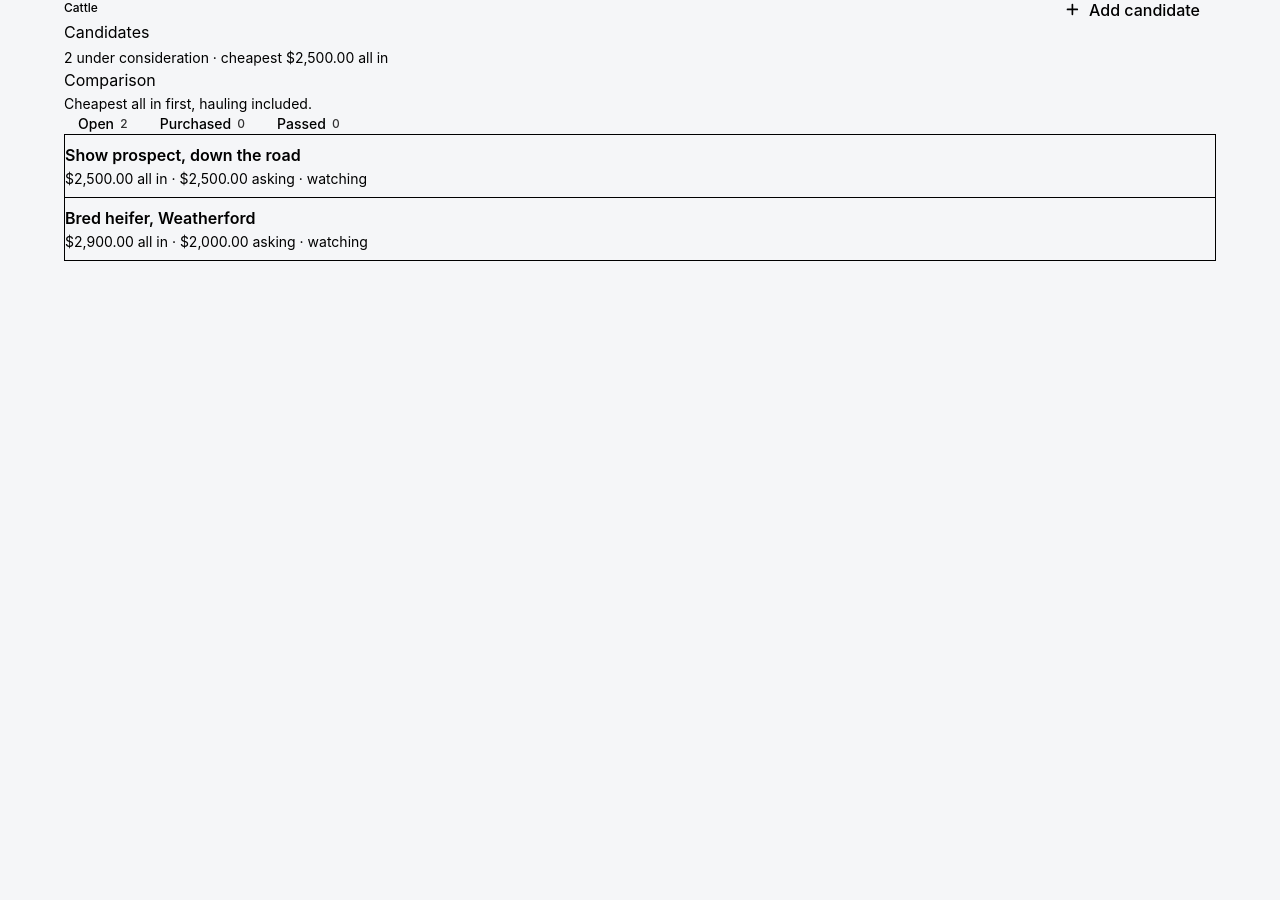
it: The comparison › adds one in a side panel, with the hauling itemised
This screenshot has width=1280, height=900.
Click the button "Add candidate" at [1132, 10], box [1048,1,1216,18]
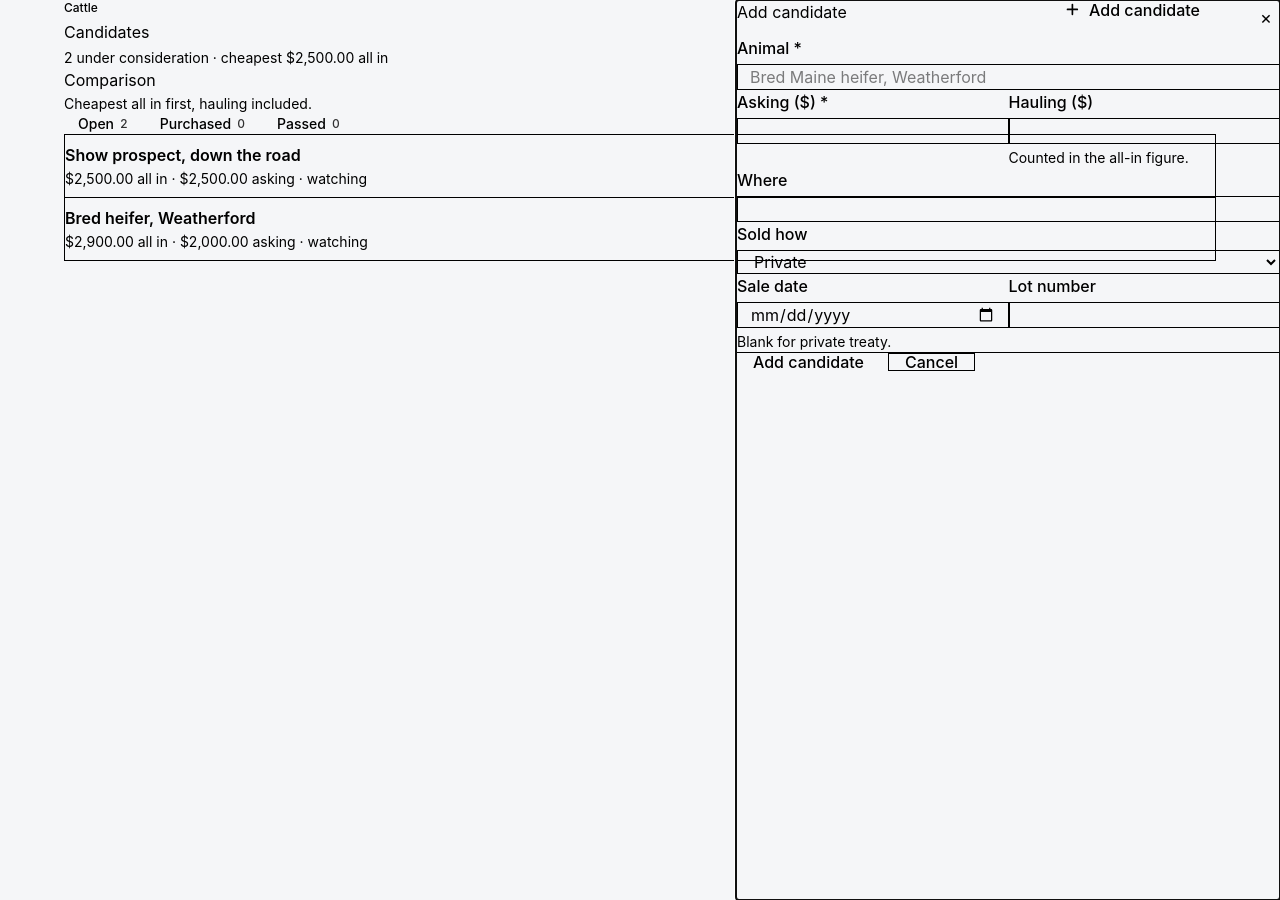
Type "Red heifer" into the field labelled "Animal *" at [1008, 77], box [737,64,1279,90]
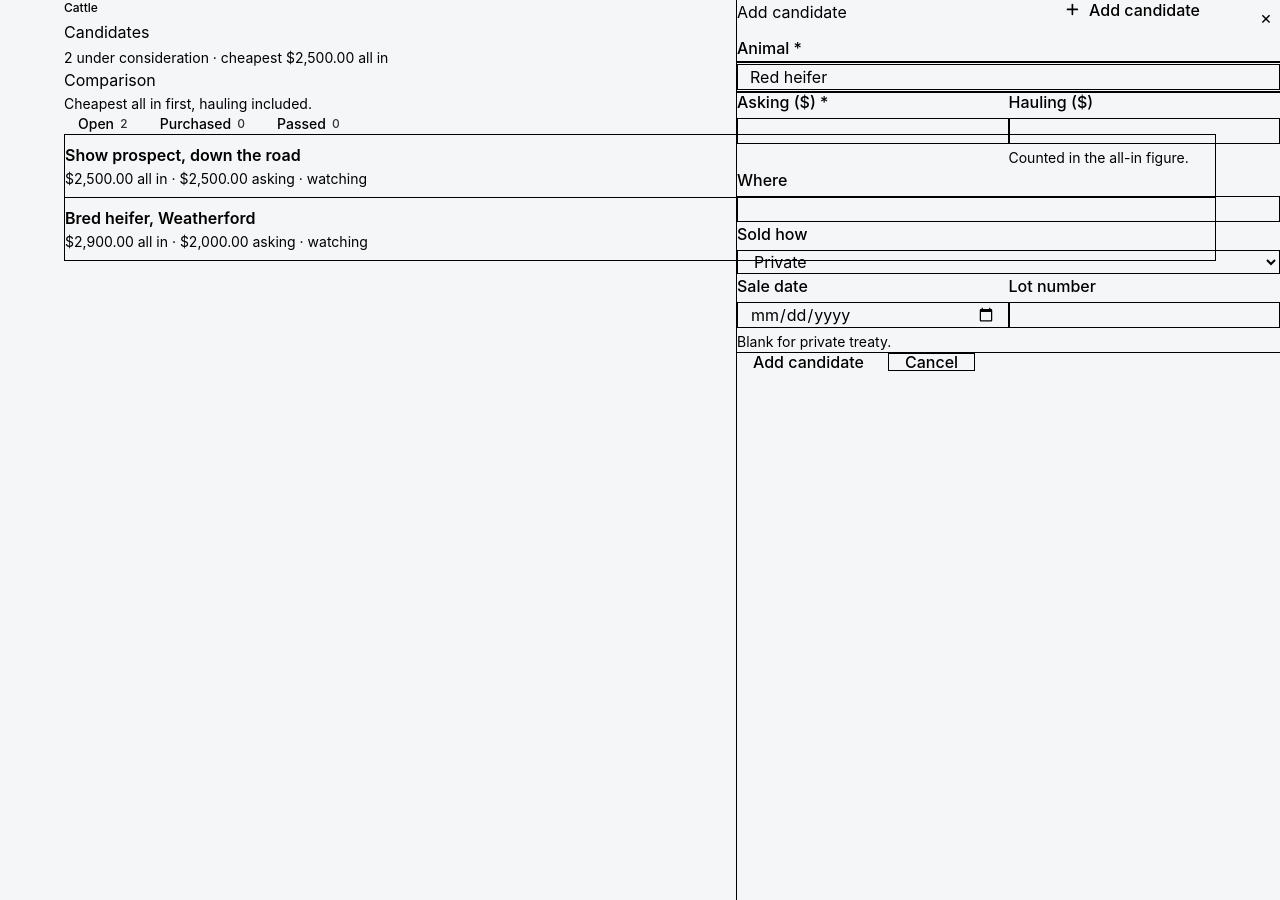
Type "1800" into the number field labelled "Asking ($) *" at [873, 131], box [737,118,1008,144]
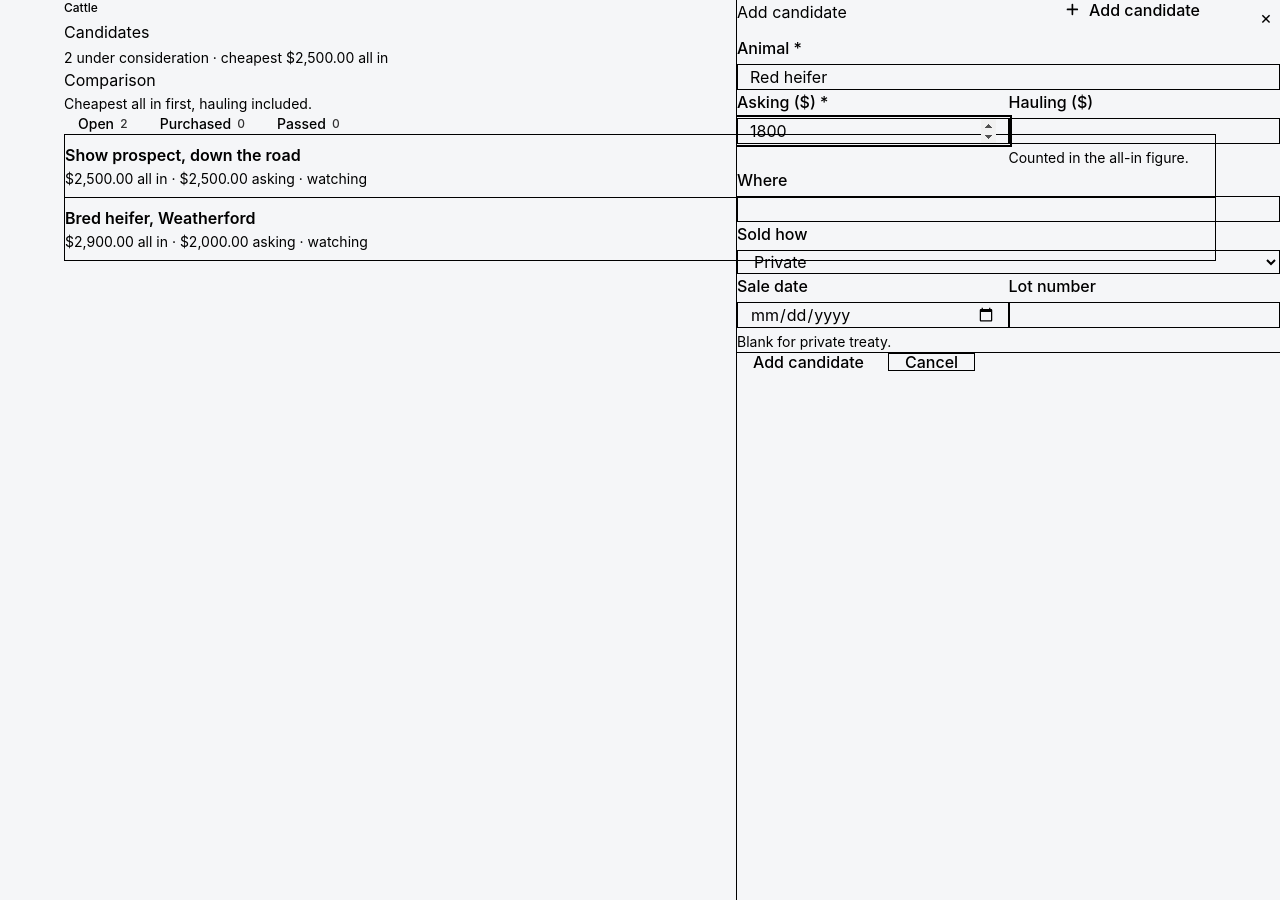
Type "300" into the number field labelled "Hauling ($)" at [1144, 131], box [1008,118,1279,144]
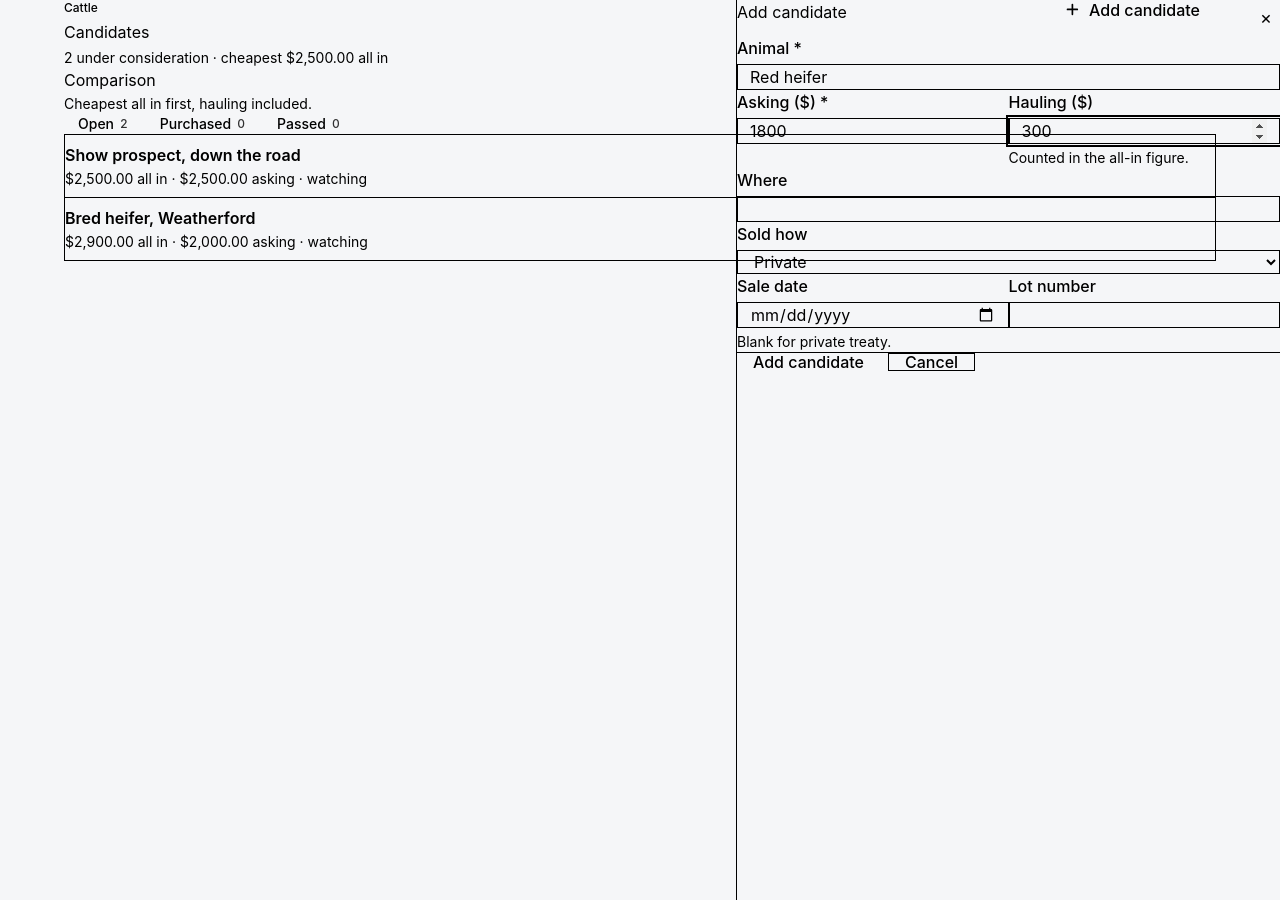
Click the button "Add candidate" at [808, 362], box [737,353,880,371]
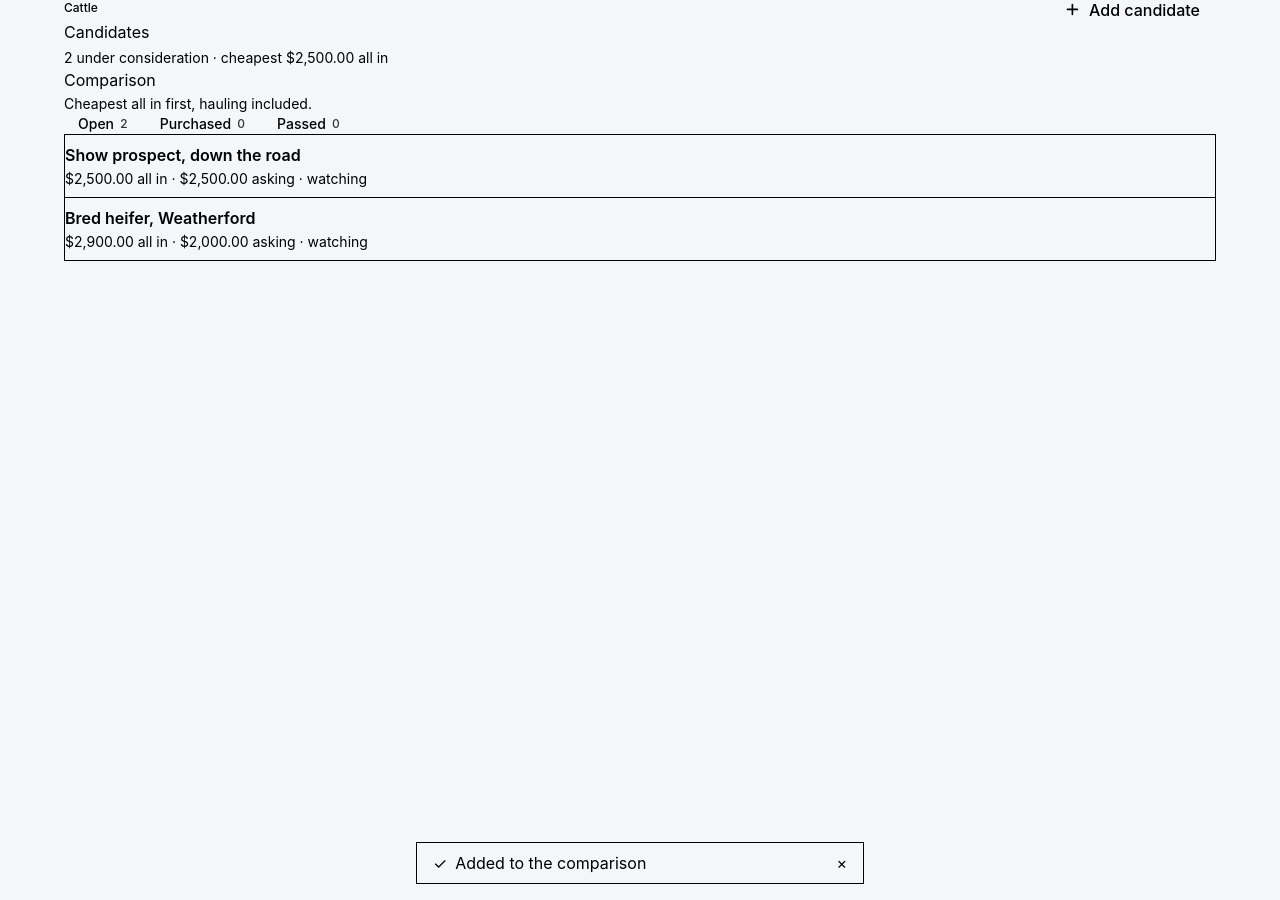
Expected: the dialog is gone
